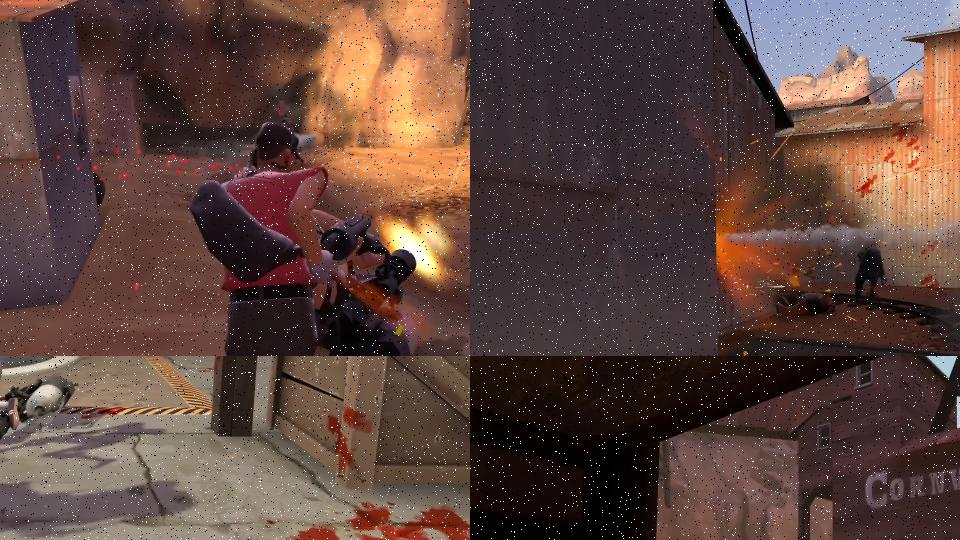Enemy: (189, 119, 372, 356), (234, 145, 417, 356), (854, 239, 887, 299), (776, 289, 838, 315)
